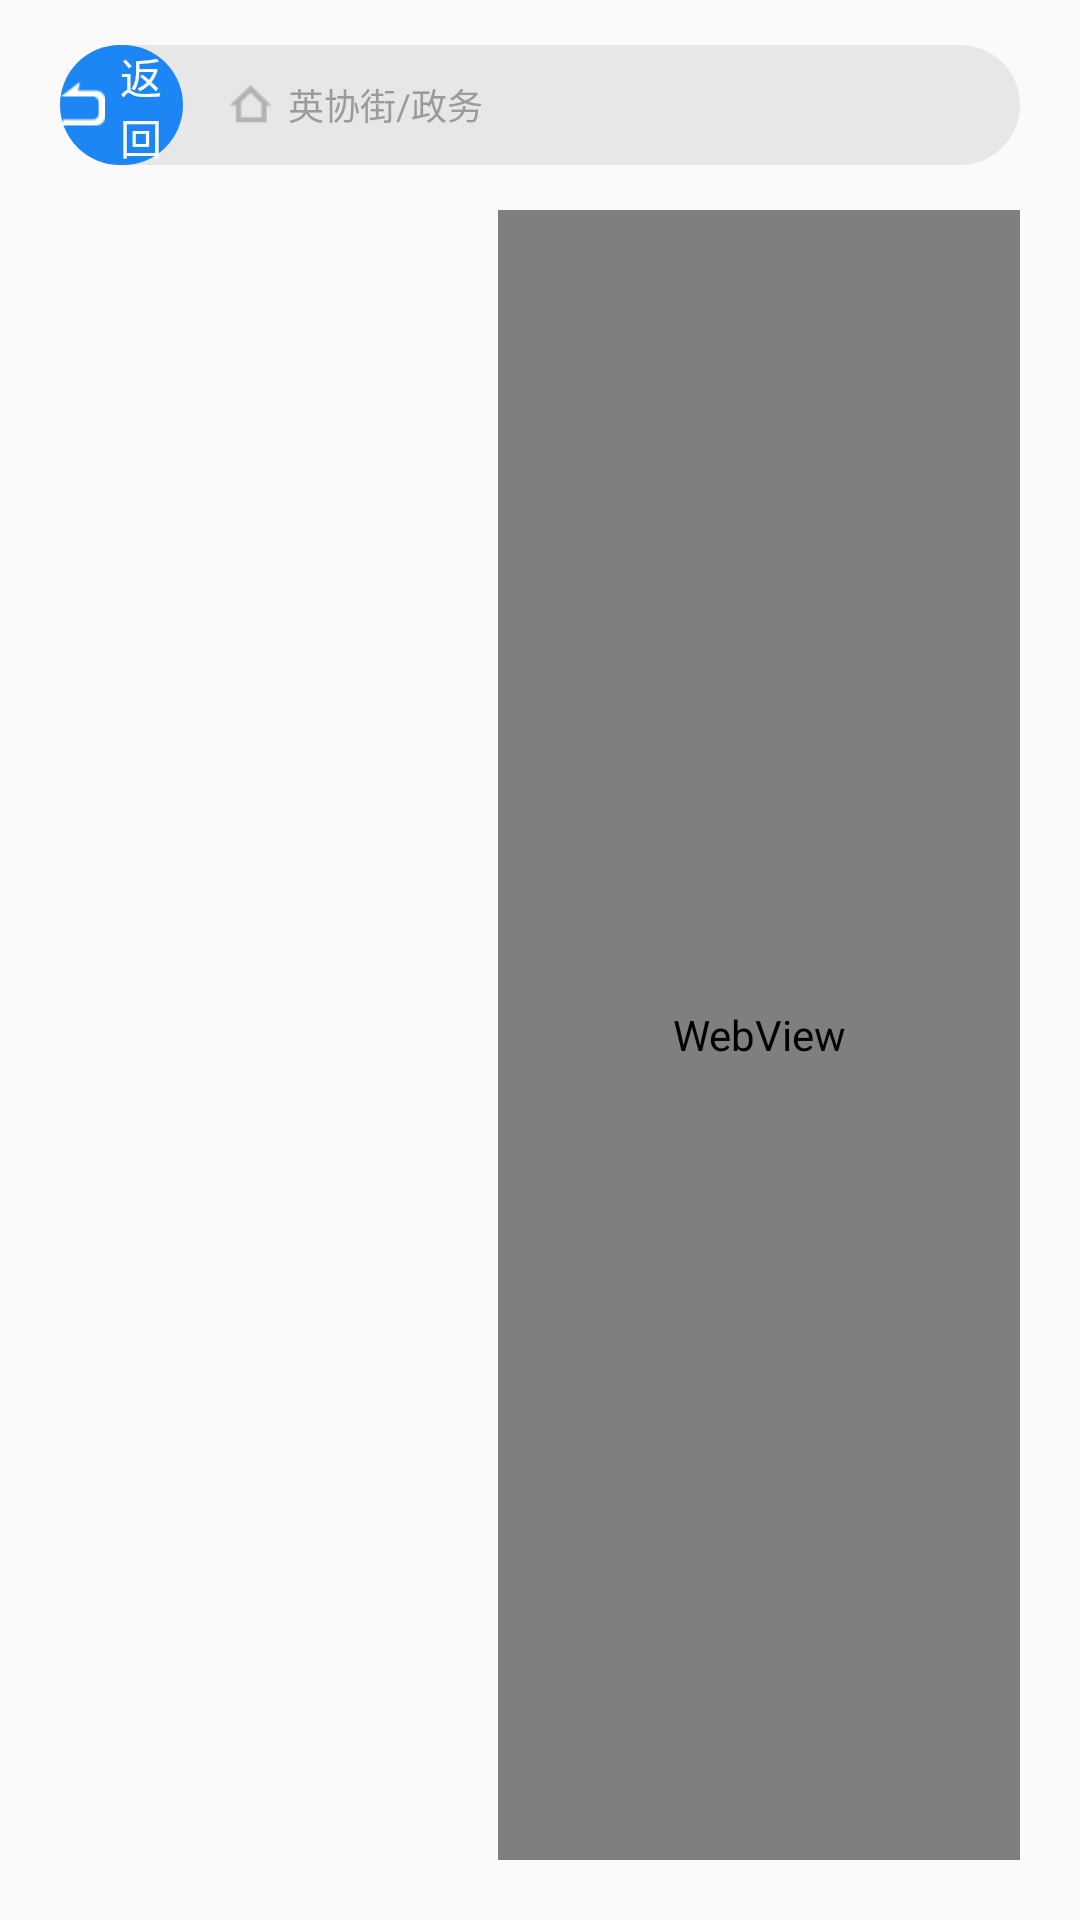

Screen size 1080*1920. Icon name, then its box in pixels as Rect(x1, y1, x2, y2):
crumb home: Rect(231, 86, 270, 122)
